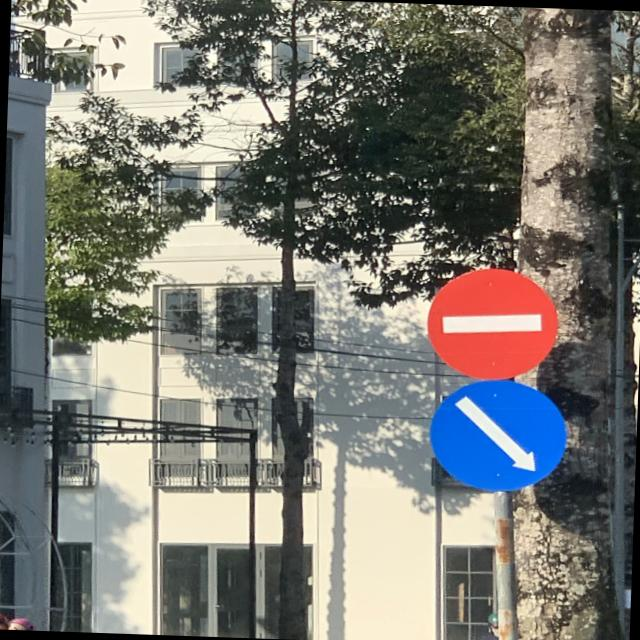Cam_Di_Nguoc_Chieu: (426, 266, 560, 384)
Chi_Huong_Di_Phai: (428, 376, 570, 495)
